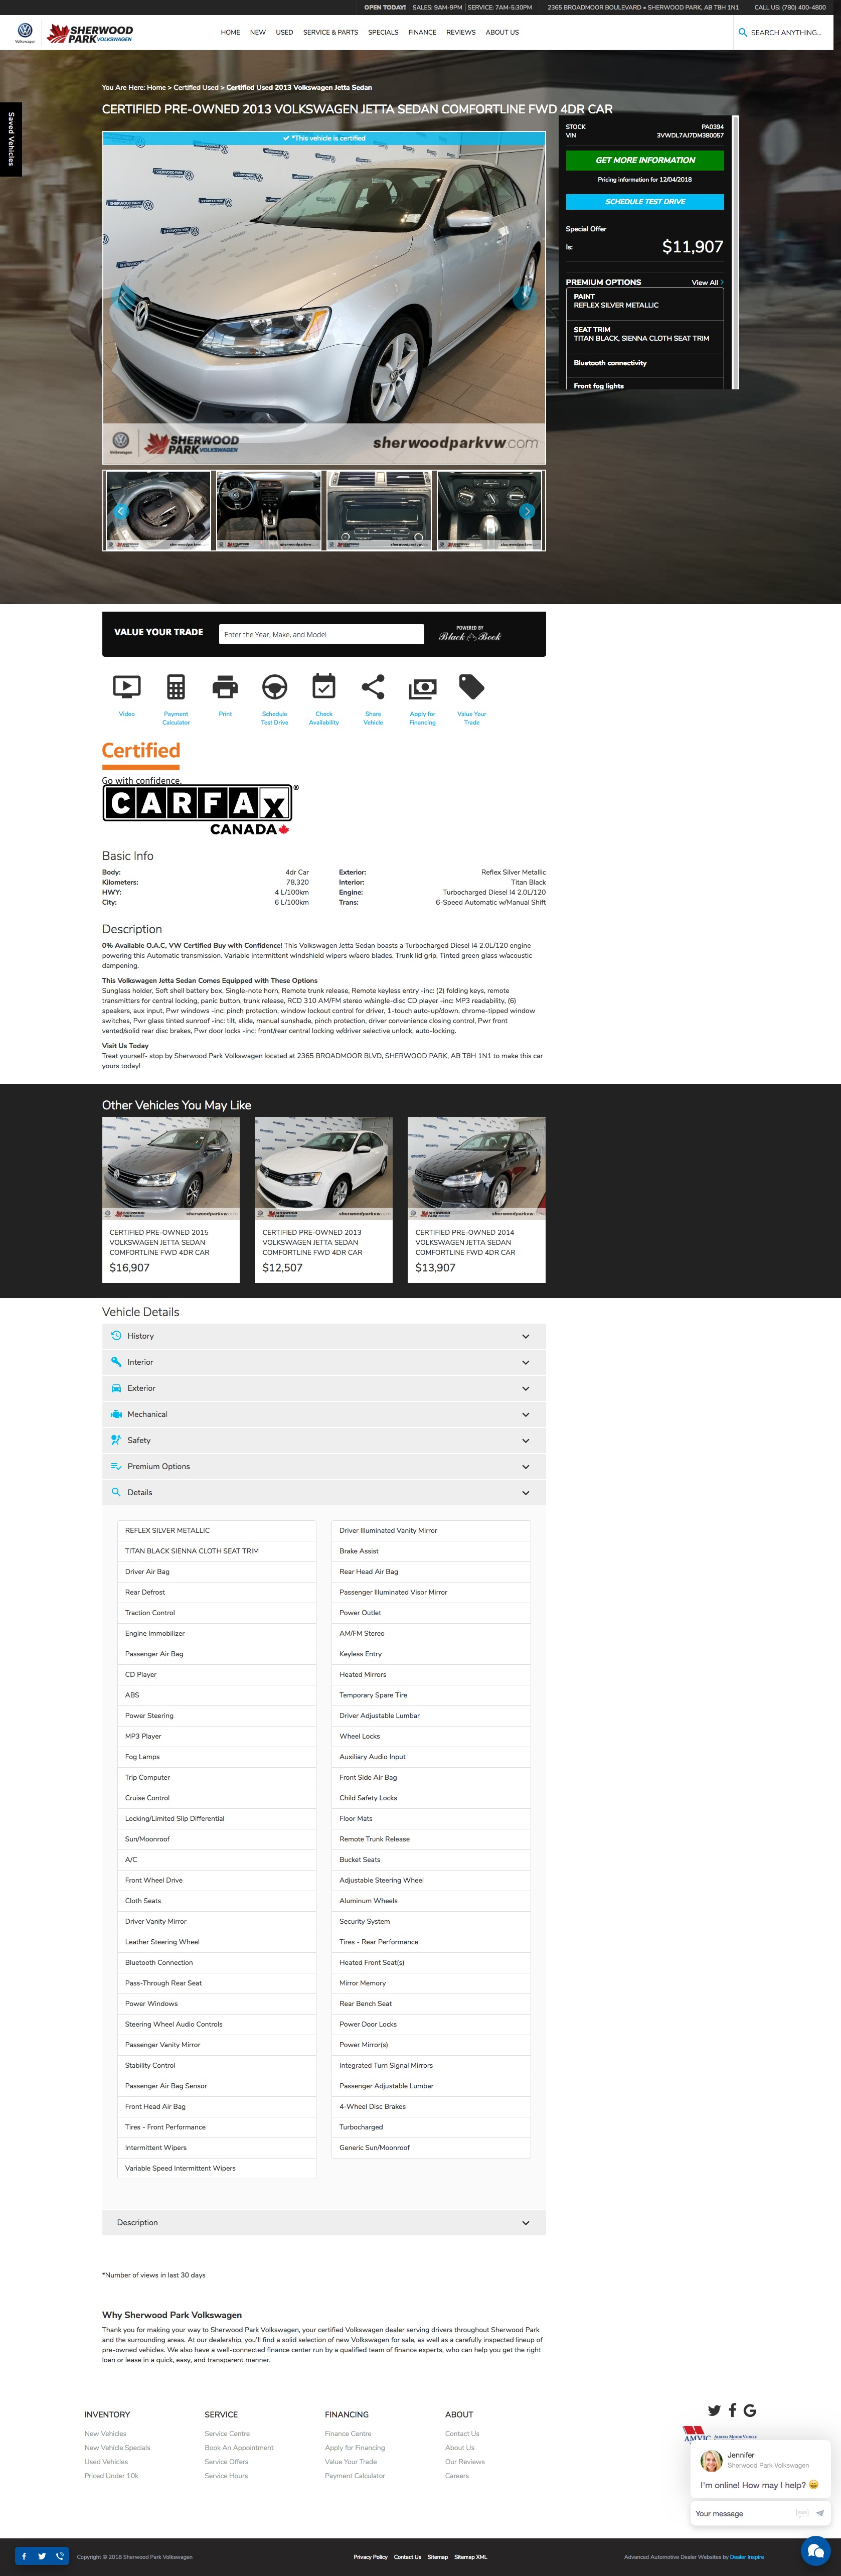car: (519, 503, 535, 521)
